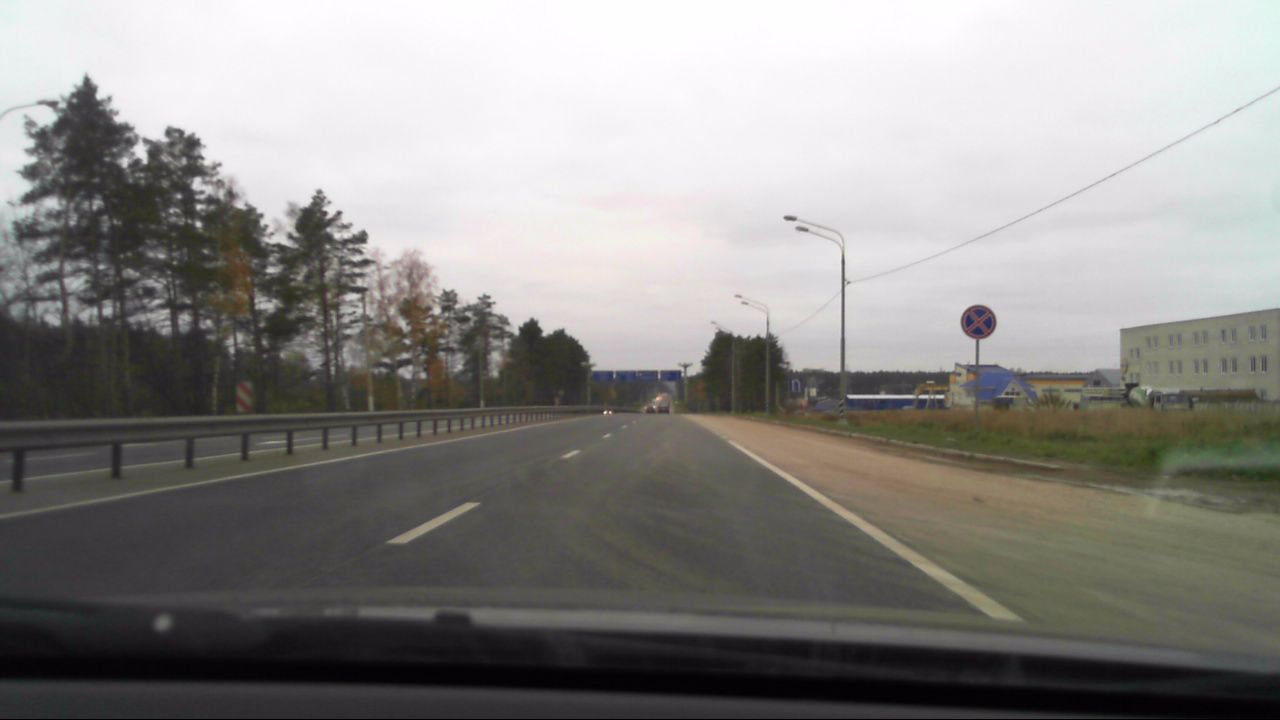No Parking: (958, 305, 998, 341)
